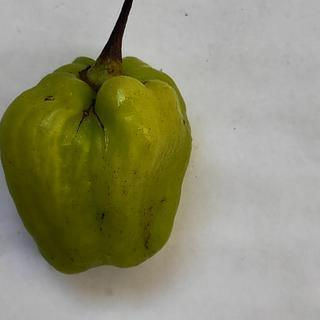Defect: (67, 63, 117, 135)
